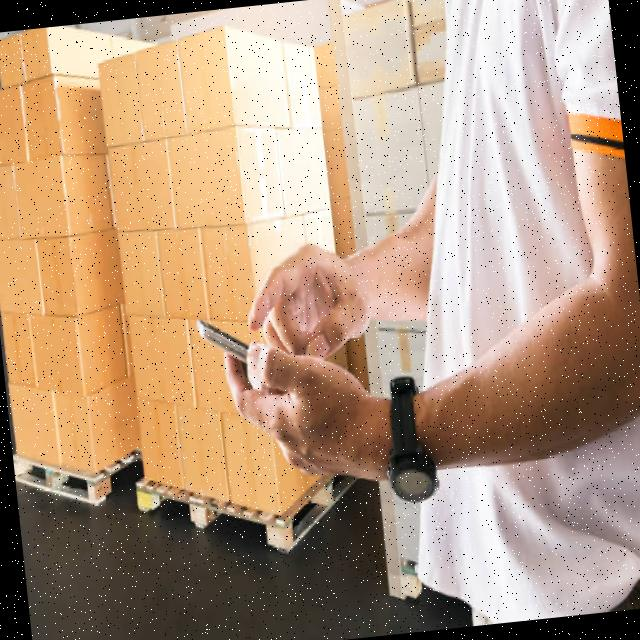Wooden-Pallets: (127, 471, 300, 565), (12, 447, 108, 516)
